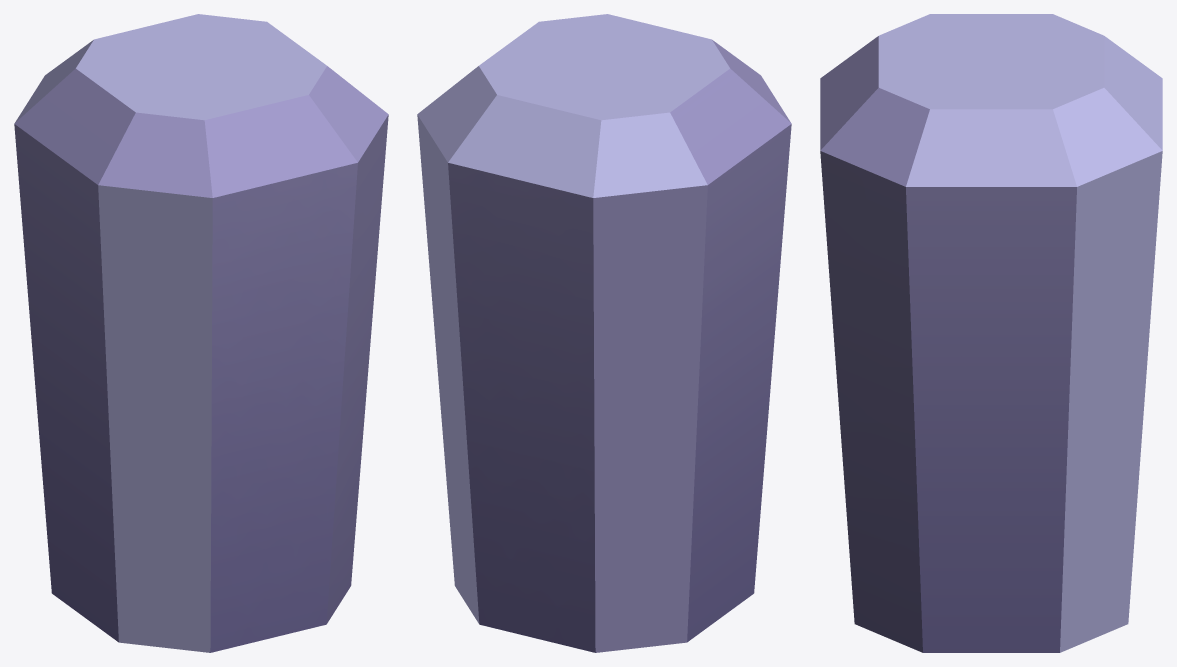
File: Stone_1.fbx
3 views of the same model, side by side, from view 1: azimuth 30°, elevation 25°; view 2: azimuth 150°, elevation 25°; view 3: azimuth 270°, elevation 25° (orthographic). The views are drawn at different scales.
Visible parts, largest first — view 1: Stone_1; view 2: Stone_1; view 3: Stone_1.
Boxes of the visible parts, x1=… form: Stone_1: x1=14, y1=14, x2=388, y2=652; Stone_1: x1=417, y1=14, x2=791, y2=652; Stone_1: x1=820, y1=14, x2=1162, y2=652.
Size of the model in its own units: 2.12 by 3.64 by 2.12.
1 material, 1 textured.
